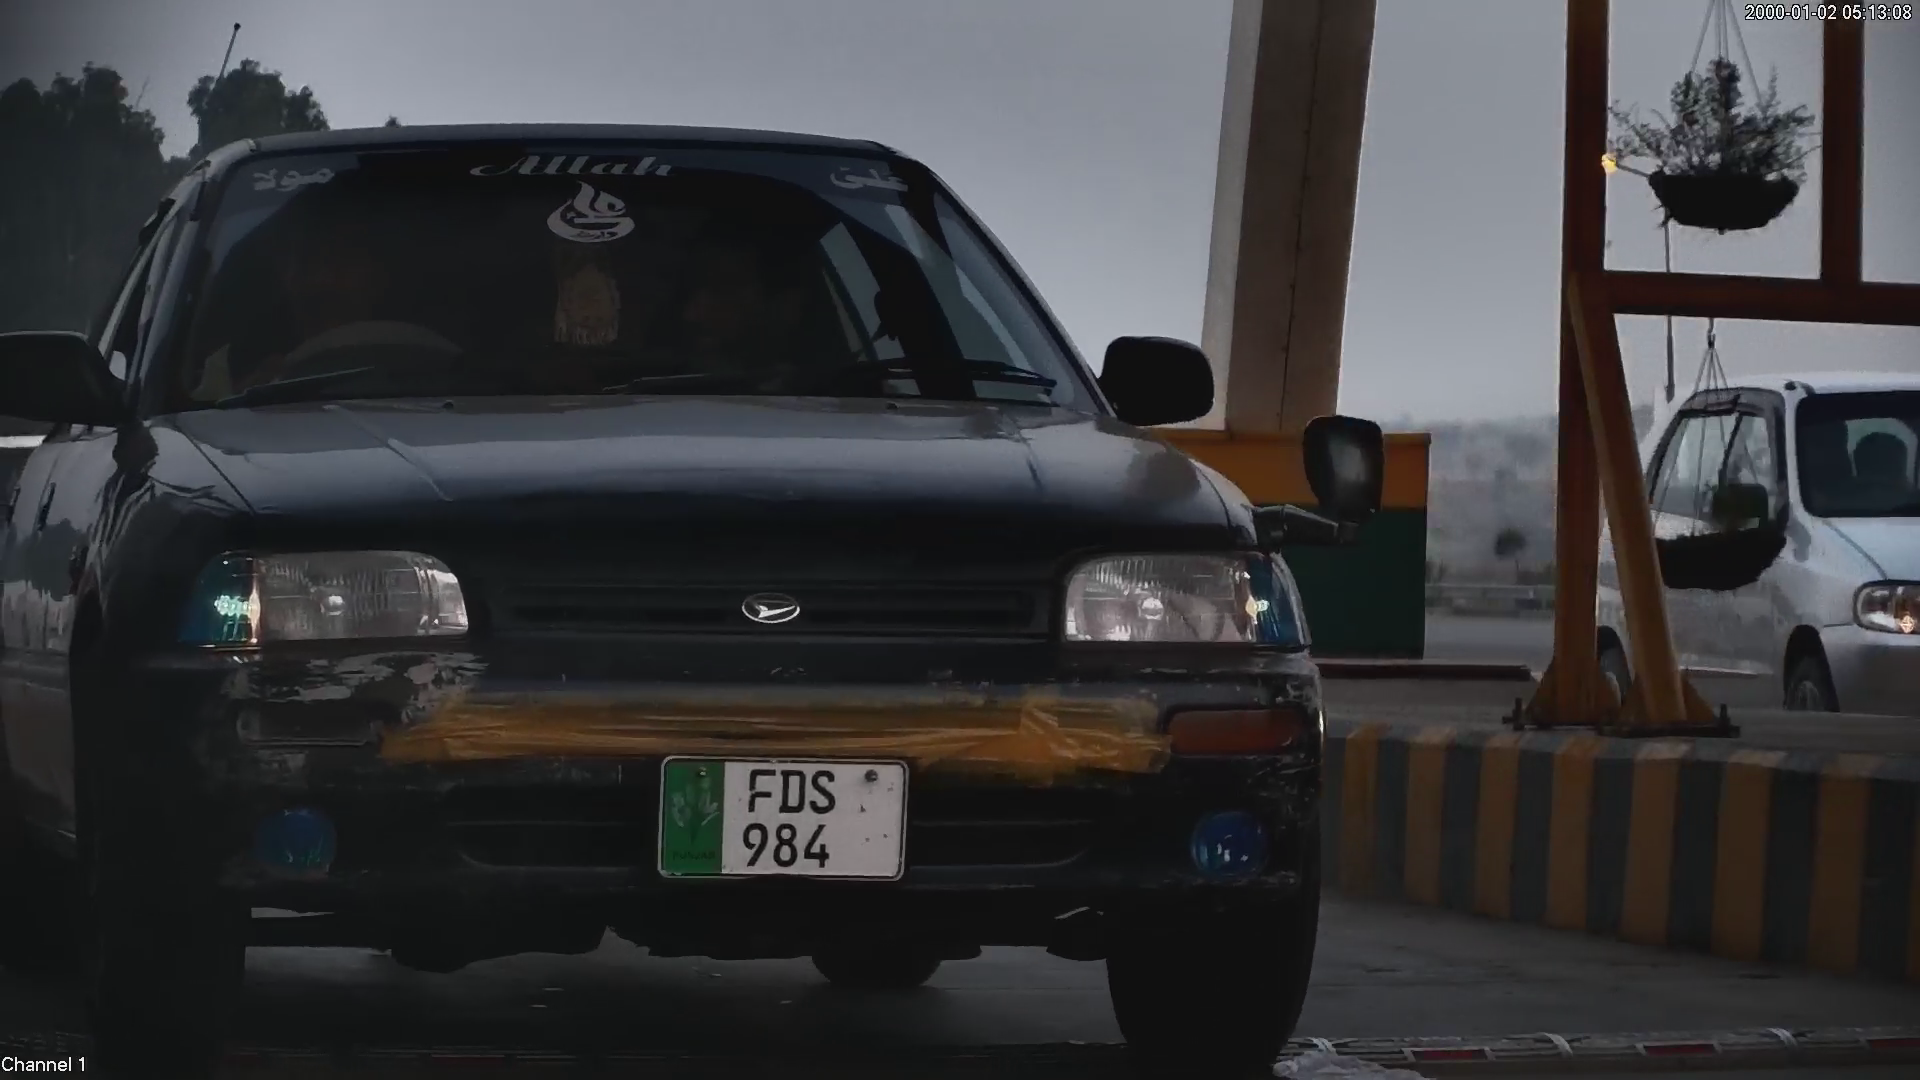Number_Plate: (647, 742, 917, 895)
